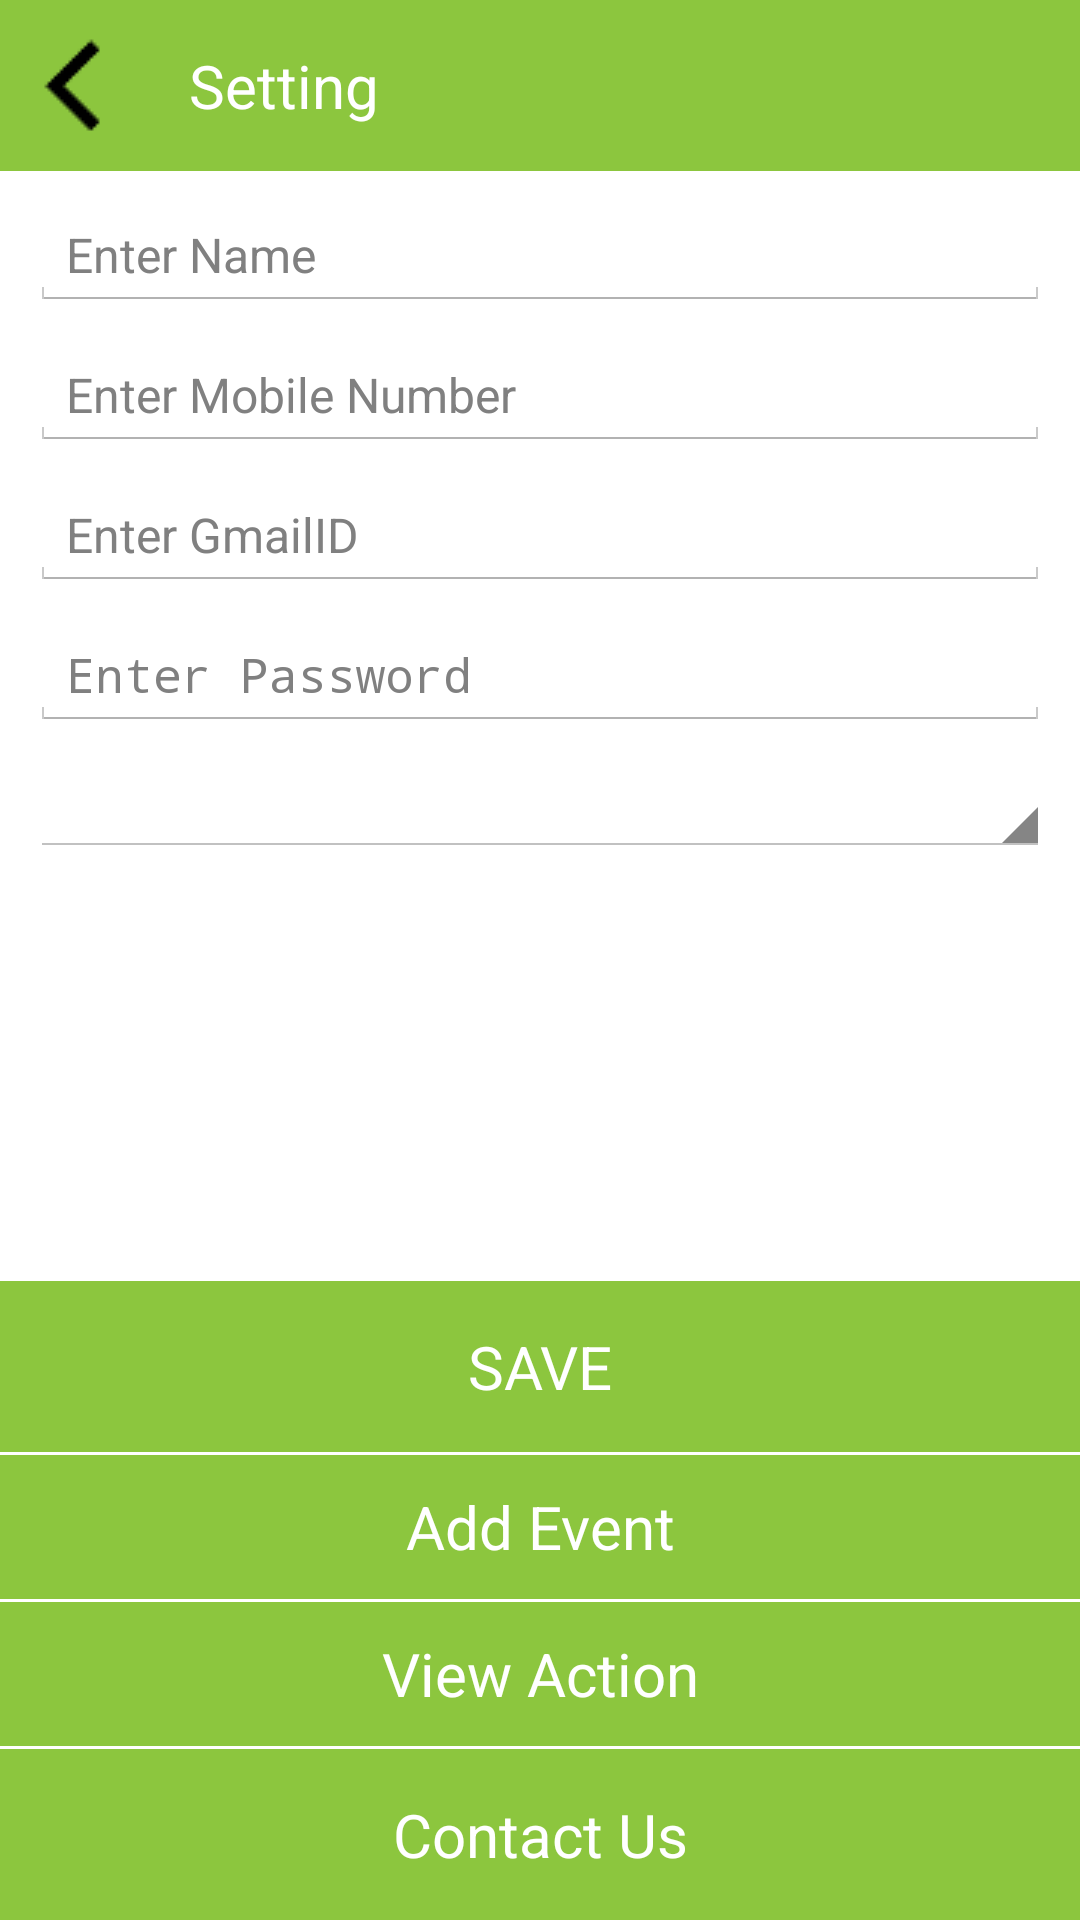

Screen size 1080 x 1920. Icon name, then its box in pixels as (x1, y1, x2, y2):
back: (44, 39, 100, 131)
